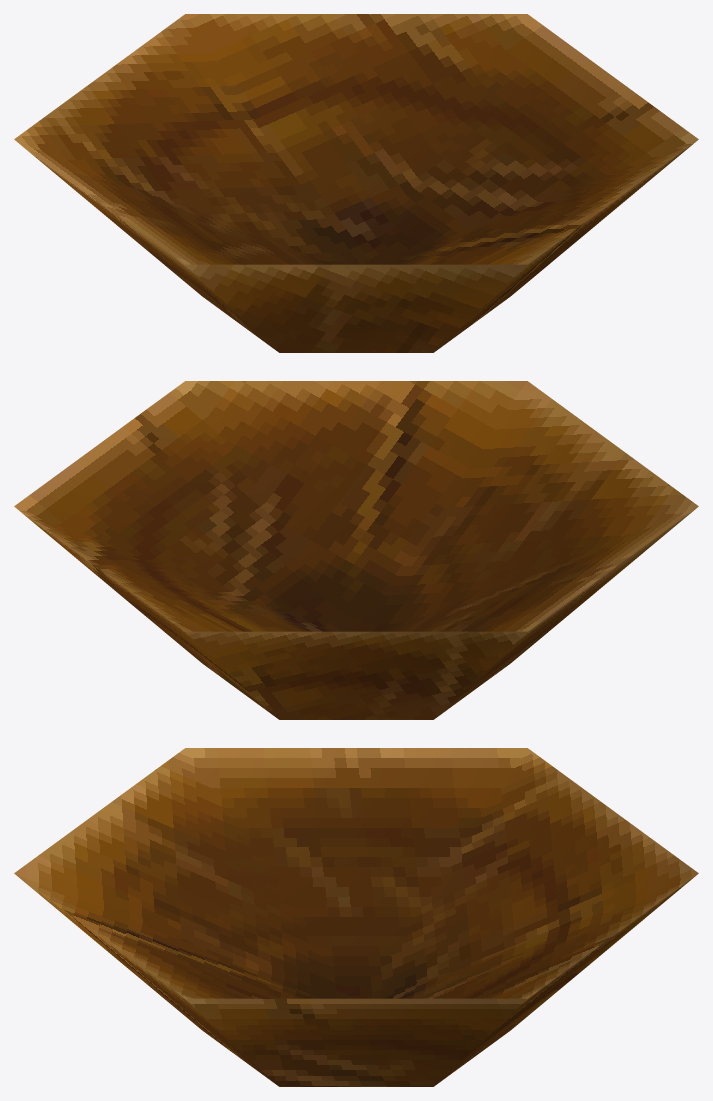
Rendered from bowlwood02.obj.
3 renders of one model, top to bottom at view 1: azimuth 30°, elevation 25°; view 2: azimuth 150°, elevation 25°; view 3: azimuth 270°, elevation 25°, orthographic.
Visible parts, largest first — view 1: BowlWood02; view 2: BowlWood02; view 3: BowlWood02.
Boxes of the visible parts, box(x1,y1,x2,y2) form: BowlWood02: box(14, 14, 698, 352); BowlWood02: box(14, 381, 698, 719); BowlWood02: box(14, 748, 698, 1086).
Size of the model in its own units: 0.608 by 0.1776 by 0.702.
1 material, 1 textured.
